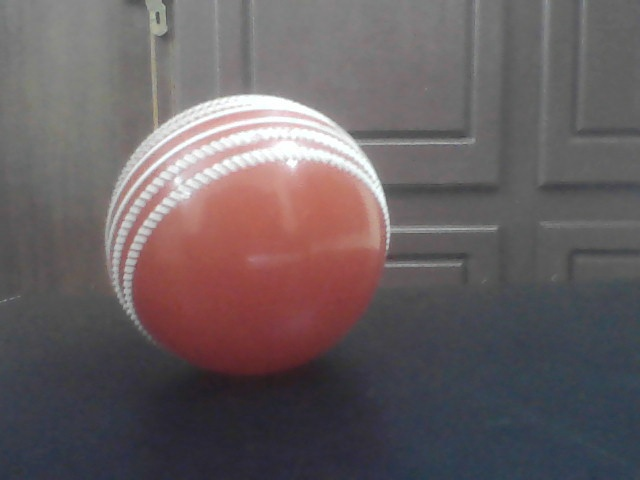cricket_ball: (101, 93, 395, 376)
